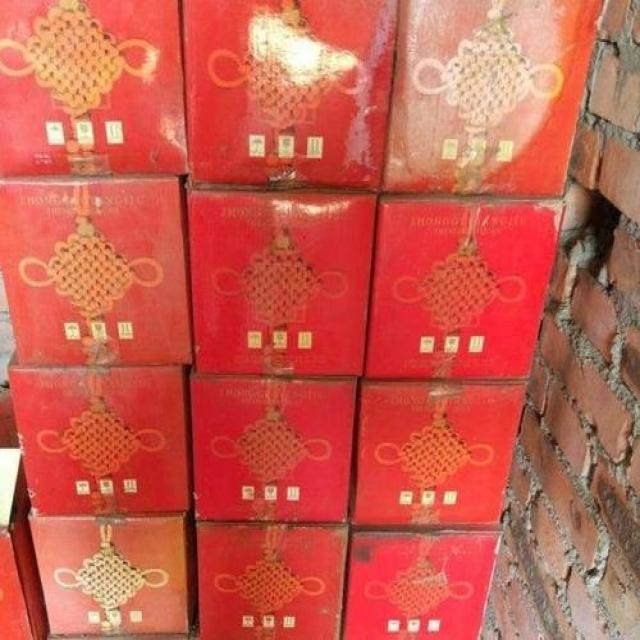box: (381, 2, 603, 195), (180, 1, 398, 191), (365, 192, 565, 381), (182, 190, 379, 377), (0, 177, 190, 365), (0, 0, 188, 178), (6, 346, 192, 513), (350, 379, 527, 528), (189, 372, 359, 523), (29, 513, 193, 635), (194, 521, 348, 638), (340, 530, 503, 639), (0, 387, 52, 639)
